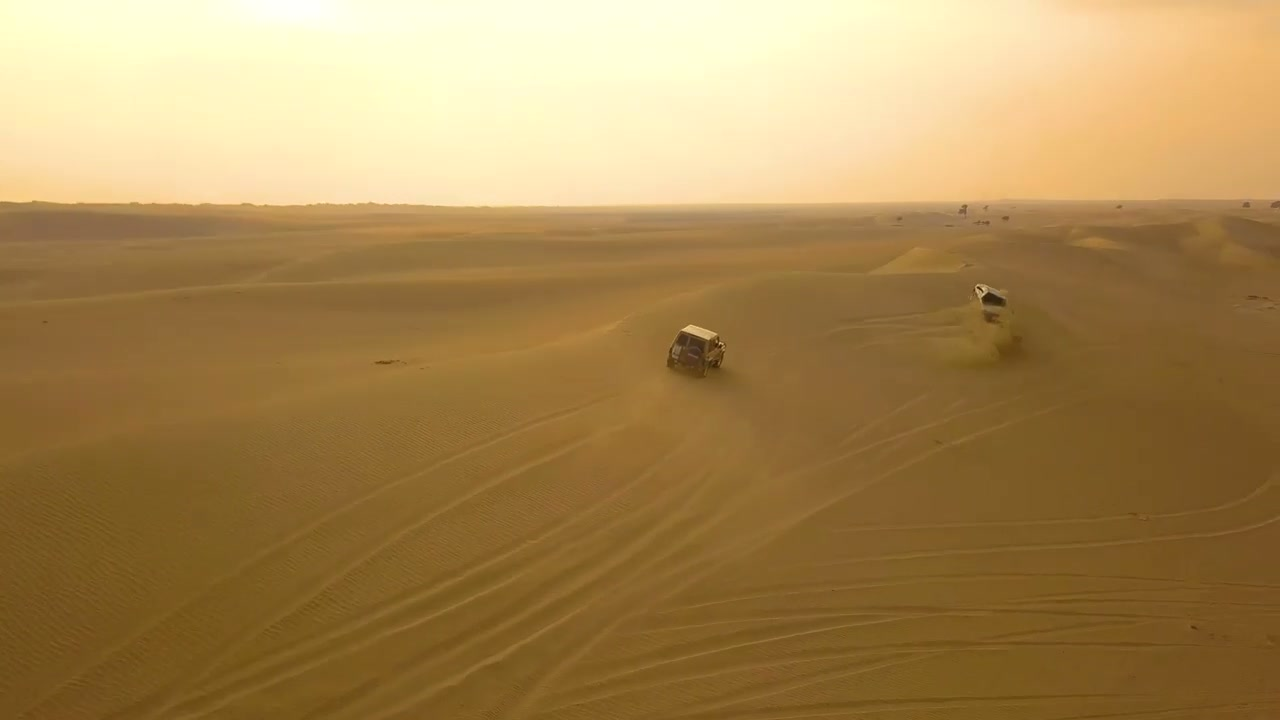vehicle_track: (18, 395, 612, 716), (172, 444, 683, 716), (631, 403, 1068, 615), (327, 481, 704, 717), (545, 641, 979, 716), (654, 571, 1279, 614), (802, 514, 1279, 567)
